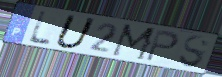2: (87, 23, 119, 55)
L: (27, 9, 52, 47)
M: (109, 23, 159, 63)
P: (144, 28, 181, 63)
S: (177, 35, 211, 70)
U: (53, 13, 99, 50)
